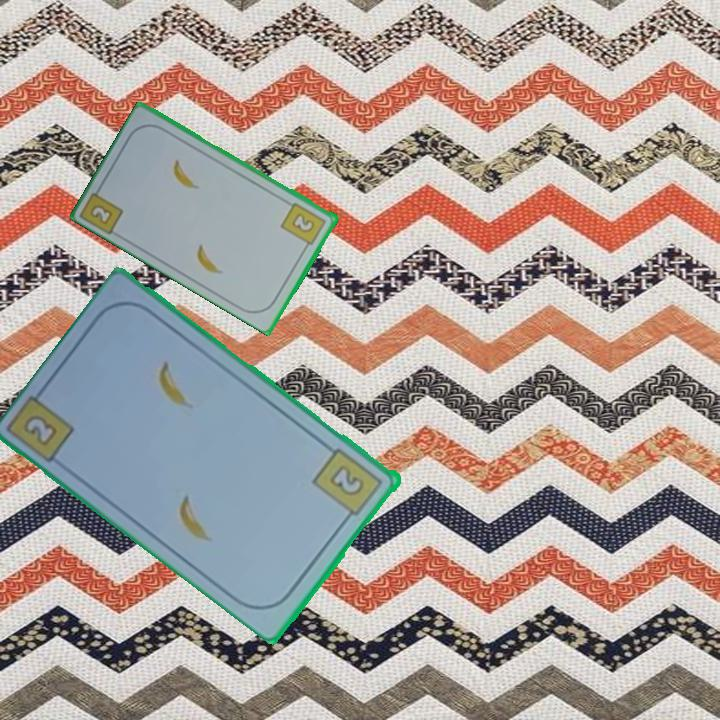2b: (310, 444, 387, 525), (79, 180, 127, 237), (278, 199, 329, 252), (20, 411, 62, 449)
